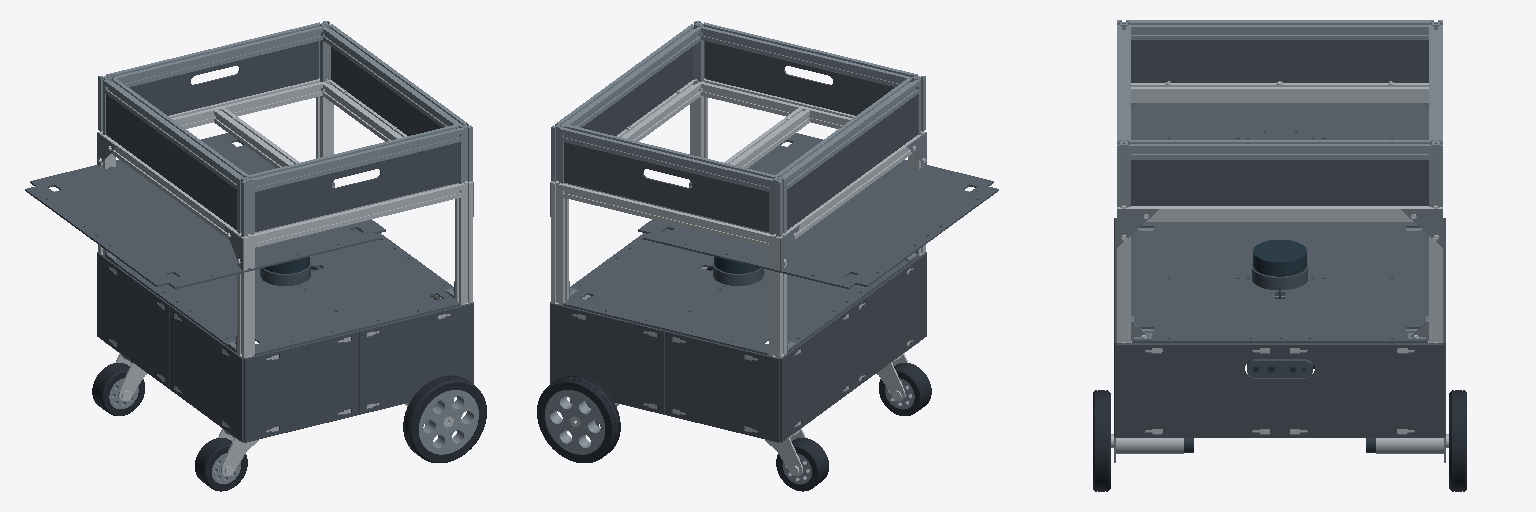
The robot description file, URDF, robot "oh_my_mobilerobot":
<?xml version='1.0' encoding='utf-8'?>
<robot name="oh_my_mobilerobot">
  <material name="color_accent">
    <color rgba="0.462745098 0.537254902 0.5803921569 1" />
  </material>
  <material name="color_arm">
    <color rgba="0.737254902 0.7647058824 0.7843137255 1" />
  </material>
  <material name="color_bracket">
    <color rgba="0.4941176471 0.537254902 0.5764705882 1" />
  </material>
  <material name="color_cover">
    <color rgba="0.3490196078 0.3803921569 0.4196078431 1" />
  </material>
  <material name="color_deck">
    <color rgba="0.3843137255 0.4235294118 0.462745098 1" />
  </material>
  <material name="color_display">
    <color rgba="0.2705882353 0.3176470588 0.3647058824 1" />
  </material>
  <material name="color_fastener">
    <color rgba="0.7647058824 0.7921568627 0.8156862745 1" />
  </material>
  <material name="color_hub">
    <color rgba="0.5490196078 0.5960784314 0.6352941176 1" />
  </material>
  <material name="color_joint">
    <color rgba="0.262745098 0.3058823529 0.3490196078 1" />
  </material>
  <material name="color_metal">
    <color rgba="0.7333333333 0.7607843137 0.7843137255 1" />
  </material>
  <material name="color_optic">
    <color rgba="0.2039215686 0.2745098039 0.3215686275 1" />
  </material>
  <material name="color_rubber">
    <color rgba="0.2117647059 0.2392156863 0.2705882353 1" />
  </material>
  <material name="color_screen">
    <color rgba="0.2078431373 0.2862745098 0.3411764706 1" />
  </material>
  <material name="color_screen_card">
    <color rgba="0.3960784314 0.4745098039 0.5176470588 1" />
  </material>
  <material name="color_screen_text">
    <color rgba="0.8823529412 0.9058823529 0.9215686275 1" />
  </material>
  <material name="color_sensor">
    <color rgba="0.3254901961 0.3764705882 0.4235294118 1" />
  </material>
  <link name="base_footprint" />
  <link name="base_link">
    <visual name="base_link_bracket">
      <geometry>
        <mesh filename="package://oh_my_mobilerobot_description/meshes/visual/base_link/bracket.stl" scale="1 1 1" />
      </geometry>
      <material name="color_bracket" />
    </visual>
    <visual name="base_link_cover">
      <geometry>
        <mesh filename="package://oh_my_mobilerobot_description/meshes/visual/base_link/cover.stl" scale="1 1 1" />
      </geometry>
      <material name="color_cover" />
    </visual>
    <visual name="base_link_deck">
      <geometry>
        <mesh filename="package://oh_my_mobilerobot_description/meshes/visual/base_link/deck.stl" scale="1 1 1" />
      </geometry>
      <material name="color_deck" />
    </visual>
    <visual name="base_link_fastener">
      <geometry>
        <mesh filename="package://oh_my_mobilerobot_description/meshes/visual/base_link/fastener.stl" scale="1 1 1" />
      </geometry>
      <material name="color_fastener" />
    </visual>
    <visual name="base_link_joint">
      <geometry>
        <mesh filename="package://oh_my_mobilerobot_description/meshes/visual/base_link/joint.stl" scale="1 1 1" />
      </geometry>
      <material name="color_joint" />
    </visual>
    <visual name="base_link_metal">
      <geometry>
        <mesh filename="package://oh_my_mobilerobot_description/meshes/visual/base_link/metal.stl" scale="1 1 1" />
      </geometry>
      <material name="color_metal" />
    </visual>
    <collision>
      <geometry>
        <box size="0.406 0.446 0.2" />
      </geometry>
      <origin rpy="0 0 0" xyz="-0.14 0 0.046" />
    </collision>
  </link>
  <link name="left_wheel_link">
    <visual name="left_wheel_link_hub">
      <geometry>
        <mesh filename="package://oh_my_mobilerobot_description/meshes/visual/left_wheel_link/hub.stl" scale="1 1 1" />
      </geometry>
      <material name="color_hub" />
    </visual>
    <visual name="left_wheel_link_metal">
      <geometry>
        <mesh filename="package://oh_my_mobilerobot_description/meshes/visual/left_wheel_link/metal.stl" scale="1 1 1" />
      </geometry>
      <material name="color_metal" />
    </visual>
    <visual name="left_wheel_link_rubber">
      <geometry>
        <mesh filename="package://oh_my_mobilerobot_description/meshes/visual/left_wheel_link/rubber.stl" scale="1 1 1" />
      </geometry>
      <material name="color_rubber" />
    </visual>
    <collision>
      <geometry>
        <cylinder length="0.024" radius="0.068" />
      </geometry>
      <origin rpy="1.570796327 0 0" xyz="0 0 0" />
    </collision>
  </link>
  <link name="right_wheel_link">
    <visual name="right_wheel_link_hub">
      <geometry>
        <mesh filename="package://oh_my_mobilerobot_description/meshes/visual/right_wheel_link/hub.stl" scale="1 1 1" />
      </geometry>
      <material name="color_hub" />
    </visual>
    <visual name="right_wheel_link_metal">
      <geometry>
        <mesh filename="package://oh_my_mobilerobot_description/meshes/visual/right_wheel_link/metal.stl" scale="1 1 1" />
      </geometry>
      <material name="color_metal" />
    </visual>
    <visual name="right_wheel_link_rubber">
      <geometry>
        <mesh filename="package://oh_my_mobilerobot_description/meshes/visual/right_wheel_link/rubber.stl" scale="1 1 1" />
      </geometry>
      <material name="color_rubber" />
    </visual>
    <collision>
      <geometry>
        <cylinder length="0.024" radius="0.068" />
      </geometry>
      <origin rpy="1.570796327 0 0" xyz="0 0 0" />
    </collision>
  </link>
  <link name="left_caster_swivel_link">
    <visual name="left_caster_swivel_link_fastener">
      <geometry>
        <mesh filename="package://oh_my_mobilerobot_description/meshes/visual/left_caster_swivel_link/fastener.stl" scale="1 1 1" />
      </geometry>
      <material name="color_fastener" />
    </visual>
    <visual name="left_caster_swivel_link_metal">
      <geometry>
        <mesh filename="package://oh_my_mobilerobot_description/meshes/visual/left_caster_swivel_link/metal.stl" scale="1 1 1" />
      </geometry>
      <material name="color_metal" />
    </visual>
    <collision>
      <geometry>
        <box size="0.0715 0.053 0.075" />
      </geometry>
      <origin rpy="0 0 0" xyz="-0.00925 0 -0.0375" />
    </collision>
  </link>
  <link name="right_caster_swivel_link">
    <visual name="right_caster_swivel_link_fastener">
      <geometry>
        <mesh filename="package://oh_my_mobilerobot_description/meshes/visual/right_caster_swivel_link/fastener.stl" scale="1 1 1" />
      </geometry>
      <material name="color_fastener" />
    </visual>
    <visual name="right_caster_swivel_link_metal">
      <geometry>
        <mesh filename="package://oh_my_mobilerobot_description/meshes/visual/right_caster_swivel_link/metal.stl" scale="1 1 1" />
      </geometry>
      <material name="color_metal" />
    </visual>
    <collision>
      <geometry>
        <box size="0.0715 0.053 0.075" />
      </geometry>
      <origin rpy="0 0 0" xyz="-0.00925 0 -0.0375" />
    </collision>
  </link>
  <link name="left_caster_wheel_link">
    <visual name="left_caster_wheel_link_hub">
      <geometry>
        <mesh filename="package://oh_my_mobilerobot_description/meshes/visual/left_caster_wheel_link/hub.stl" scale="1 1 1" />
      </geometry>
      <material name="color_hub" />
    </visual>
    <visual name="left_caster_wheel_link_rubber">
      <geometry>
        <mesh filename="package://oh_my_mobilerobot_description/meshes/visual/left_caster_wheel_link/rubber.stl" scale="1 1 1" />
      </geometry>
      <material name="color_rubber" />
    </visual>
    <collision>
      <geometry>
        <cylinder length="0.033" radius="0.038" />
      </geometry>
      <origin rpy="1.570796327 0 0" xyz="0 0 0" />
    </collision>
  </link>
  <link name="right_caster_wheel_link">
    <visual name="right_caster_wheel_link_hub">
      <geometry>
        <mesh filename="package://oh_my_mobilerobot_description/meshes/visual/right_caster_wheel_link/hub.stl" scale="1 1 1" />
      </geometry>
      <material name="color_hub" />
    </visual>
    <visual name="right_caster_wheel_link_rubber">
      <geometry>
        <mesh filename="package://oh_my_mobilerobot_description/meshes/visual/right_caster_wheel_link/rubber.stl" scale="1 1 1" />
      </geometry>
      <material name="color_rubber" />
    </visual>
    <collision>
      <geometry>
        <cylinder length="0.033" radius="0.038" />
      </geometry>
      <origin rpy="1.570796327 0 0" xyz="0 0 0" />
    </collision>
  </link>
  <link name="lidar_link">
    <visual name="lidar_link_optic">
      <geometry>
        <mesh filename="package://oh_my_mobilerobot_description/meshes/visual/lidar_link/optic.stl" scale="1 1 1" />
      </geometry>
      <material name="color_optic" />
    </visual>
    <visual name="lidar_link_rubber">
      <geometry>
        <mesh filename="package://oh_my_mobilerobot_description/meshes/visual/lidar_link/rubber.stl" scale="1 1 1" />
      </geometry>
      <material name="color_rubber" />
    </visual>
    <visual name="lidar_link_sensor">
      <geometry>
        <mesh filename="package://oh_my_mobilerobot_description/meshes/visual/lidar_link/sensor.stl" scale="1 1 1" />
      </geometry>
      <material name="color_sensor" />
    </visual>
    <collision>
      <geometry>
        <box size="0.09399897908 0.07598632342 0.062" />
      </geometry>
      <origin rpy="0 0 0" xyz="0.009000510459 0 0.01" />
    </collision>
  </link>
  <link name="camera_link">
    <visual name="camera_link_optic">
      <geometry>
        <mesh filename="package://oh_my_mobilerobot_description/meshes/visual/camera_link/optic.stl" scale="1 1 1" />
      </geometry>
      <material name="color_optic" />
    </visual>
    <visual name="camera_link_rubber">
      <geometry>
        <mesh filename="package://oh_my_mobilerobot_description/meshes/visual/camera_link/rubber.stl" scale="1 1 1" />
      </geometry>
      <material name="color_rubber" />
    </visual>
    <visual name="camera_link_sensor">
      <geometry>
        <mesh filename="package://oh_my_mobilerobot_description/meshes/visual/camera_link/sensor.stl" scale="1 1 1" />
      </geometry>
      <material name="color_sensor" />
    </visual>
    <collision>
      <geometry>
        <box size="0.06811 0.1675 0.025" />
      </geometry>
      <origin rpy="0 0 0" xyz="-0.033995 0.03875 0" />
    </collision>
  </link>
  <link name="laser_frame" />
  <link name="camera_optical_frame" />
  <joint name="base_footprint_joint" type="fixed">
    <parent link="base_footprint" />
    <child link="base_link" />
    <origin rpy="0 0 0" xyz="0 0 0.101" />
  </joint>
  <joint name="left_wheel_joint" type="continuous">
    <parent link="base_link" />
    <child link="left_wheel_link" />
    <origin rpy="0 0 0" xyz="0 0.24 -0.033" />
    <axis xyz="0 1 0" />
  </joint>
  <joint name="left_caster_swivel_joint" type="continuous">
    <parent link="base_link" />
    <child link="left_caster_swivel_link" />
    <origin rpy="0 0 0" xyz="-0.30775 0.155 0" />
    <axis xyz="0 0 1" />
  </joint>
  <joint name="left_caster_wheel_joint" type="continuous">
    <parent link="left_caster_swivel_link" />
    <child link="left_caster_wheel_link" />
    <origin rpy="0 0 0" xyz="-0.034 0 -0.063" />
    <axis xyz="0 1 0" />
  </joint>
  <joint name="right_wheel_joint" type="continuous">
    <parent link="base_link" />
    <child link="right_wheel_link" />
    <origin rpy="0 0 0" xyz="0 -0.24 -0.033" />
    <axis xyz="0 1 0" />
  </joint>
  <joint name="right_caster_swivel_joint" type="continuous">
    <parent link="base_link" />
    <child link="right_caster_swivel_link" />
    <origin rpy="0 0 0" xyz="-0.30775 -0.155 0" />
    <axis xyz="0 0 1" />
  </joint>
  <joint name="right_caster_wheel_joint" type="continuous">
    <parent link="right_caster_swivel_link" />
    <child link="right_caster_wheel_link" />
    <origin rpy="0 0 0" xyz="-0.034 0 -0.063" />
    <axis xyz="0 1 0" />
  </joint>
  <joint name="lidar_joint" type="fixed">
    <parent link="base_link" />
    <child link="lidar_link" />
    <origin rpy="0 0 0" xyz="-0.14 0 0.143" />
  </joint>
  <joint name="laser_frame_joint" type="fixed">
    <parent link="lidar_link" />
    <child link="laser_frame" />
    <origin rpy="0 0 0" xyz="0 0 0.0303" />
  </joint>
  <joint name="camera_joint" type="fixed">
    <parent link="base_link" />
    <child link="camera_link" />
    <origin rpy="0 0 0" xyz="0.06505 0 0.1035" />
  </joint>
  <joint name="camera_optical_joint" type="fixed">
    <parent link="camera_link" />
    <child link="camera_optical_frame" />
    <origin rpy="-1.570796327 0 -1.570796327" xyz="0 0 0" />
  </joint>
  <link name="module_link">
    <visual name="module_link_bracket">
      <geometry>
        <mesh filename="package://oh_my_mobilerobot_description/meshes/visual/cargo_module/bracket.stl" scale="1 1 1" />
      </geometry>
      <material name="color_bracket" />
    </visual>
    <visual name="module_link_cover">
      <geometry>
        <mesh filename="package://oh_my_mobilerobot_description/meshes/visual/cargo_module/cover.stl" scale="1 1 1" />
      </geometry>
      <material name="color_cover" />
    </visual>
    <visual name="module_link_deck">
      <geometry>
        <mesh filename="package://oh_my_mobilerobot_description/meshes/visual/cargo_module/deck.stl" scale="1 1 1" />
      </geometry>
      <material name="color_deck" />
    </visual>
    <visual name="module_link_fastener">
      <geometry>
        <mesh filename="package://oh_my_mobilerobot_description/meshes/visual/cargo_module/fastener.stl" scale="1 1 1" />
      </geometry>
      <material name="color_fastener" />
    </visual>
    <visual name="module_link_hub">
      <geometry>
        <mesh filename="package://oh_my_mobilerobot_description/meshes/visual/cargo_module/hub.stl" scale="1 1 1" />
      </geometry>
      <material name="color_hub" />
    </visual>
    <visual name="module_link_metal">
      <geometry>
        <mesh filename="package://oh_my_mobilerobot_description/meshes/visual/cargo_module/metal.stl" scale="1 1 1" />
      </geometry>
      <material name="color_metal" />
    </visual>
  </link>
  <joint name="module_joint" type="fixed">
    <parent link="base_link" />
    <child link="module_link" />
    <origin rpy="0 0 0" xyz="-0.14 0 0.143" />
  </joint>
</robot>

--- Render facts (derived) ---
The picture shows the robot from 3 angles, left to right: view 1: azimuth 30°, elevation 25°; view 2: azimuth 150°, elevation 25°; view 3: azimuth 270°, elevation 25°; orthographic projection.
Model oh_my_mobilerobot with 13 links and 12 joints (6 continuous, 6 fixed), rooted at base_footprint, posed every joint at zero.
Visible links, largest first — view 1: module_link, base_link, right_wheel_link, right_caster_wheel_link, left_caster_wheel_link, lidar_link, right_caster_swivel_link, left_caster_swivel_link; view 2: module_link, base_link, left_wheel_link, left_caster_wheel_link, right_caster_wheel_link, lidar_link, left_caster_swivel_link, right_caster_swivel_link; view 3: module_link, base_link, lidar_link, left_wheel_link, right_wheel_link, camera_link.
Link boxes in pixels (x1,y1,x2,y2): module_link: (25,21,473,357); base_link: (97,229,473,442); right_wheel_link: (403,375,486,462); right_caster_wheel_link: (195,438,247,491); left_caster_wheel_link: (92,363,144,415); lidar_link: (260,257,317,285); right_caster_swivel_link: (218,428,258,475); left_caster_swivel_link: (116,354,147,400); module_link: (550,21,998,357); base_link: (550,229,926,442); left_wheel_link: (537,375,620,462); left_caster_wheel_link: (776,438,828,491); right_caster_wheel_link: (879,363,931,415); lidar_link: (706,257,763,285); left_caster_swivel_link: (765,428,805,475); right_caster_swivel_link: (876,354,907,400); module_link: (1117,20,1442,342); base_link: (1114,218,1445,462); lidar_link: (1252,240,1307,298); left_wheel_link: (1446,390,1466,491); right_wheel_link: (1093,390,1113,491); camera_link: (1247,359,1314,377).
Size in the robot's own frame: 0.548 by 0.504 by 0.534 metres.
31 mesh visuals loaded from 32 distinct referenced files (30 binary STL); not drawn: 1 (reference not matched to a file when rendering).
